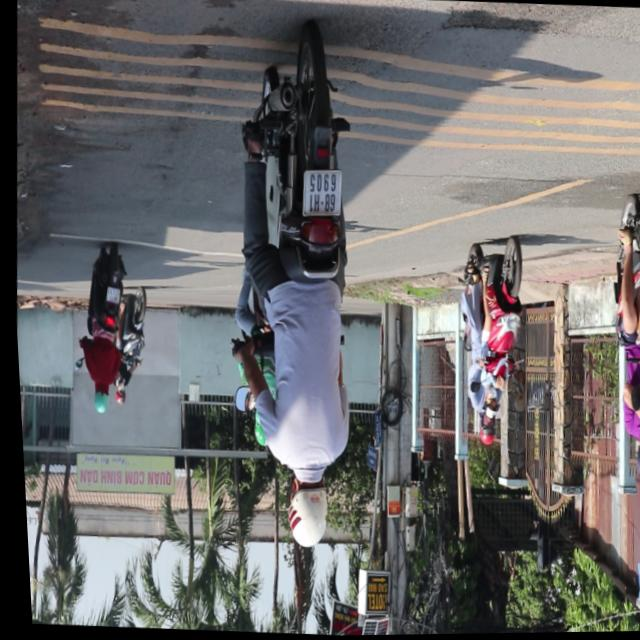helmet: (278, 467, 329, 552), (473, 412, 494, 449), (627, 435, 640, 488)
licenseplate: (204, 23, 380, 555), (446, 233, 532, 452), (593, 182, 640, 490)
motorcyclist: (479, 384, 496, 420)
nohelmet: (300, 171, 340, 215)
